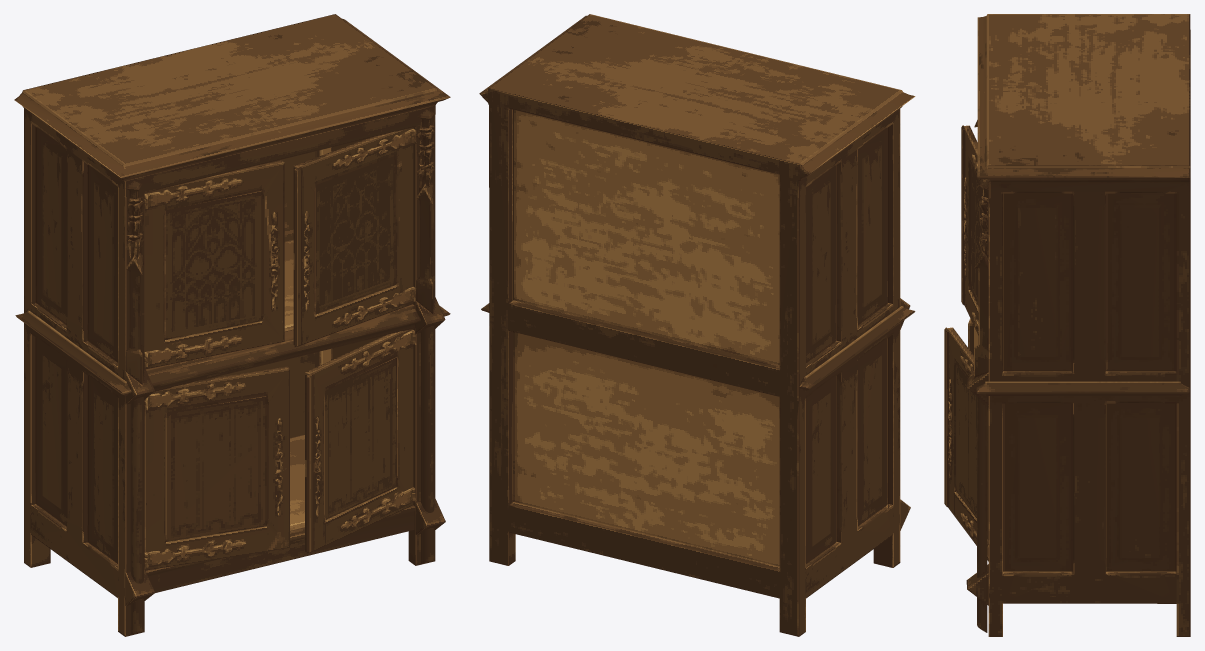
Rendered from GothicCabinet_01.glb.
3 renders of one model, left to right at view 1: azimuth 30°, elevation 25°; view 2: azimuth 150°, elevation 25°; view 3: azimuth 270°, elevation 25°, orthographic.
Parts seen in each view (by area): view 1: mesh; view 2: mesh; view 3: mesh.
Part boxes in pixels (x1,y1,x2,y2): mesh: (14, 14, 450, 636); mesh: (479, 14, 915, 636); mesh: (944, 14, 1190, 636).
Size of the model in its own units: 69.04 by 94.44 by 44.66.
Materials: 1 (1 with a texture image).
